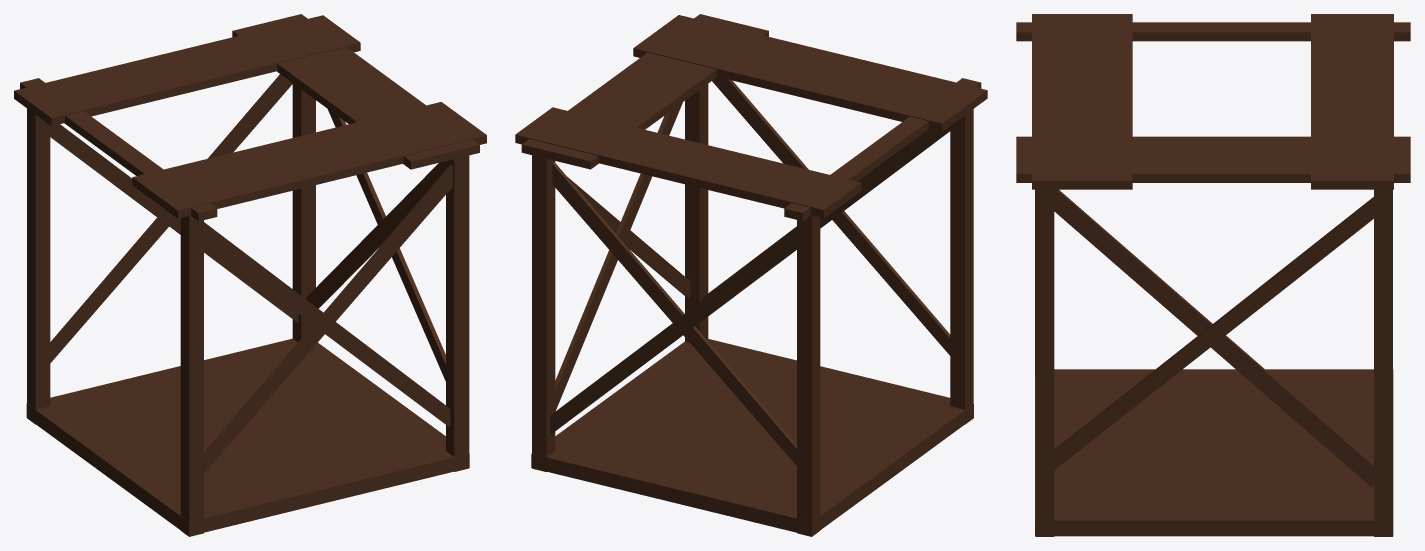
The model's file is Estructura Lisa.fbx.
The picture shows the model from 3 angles, left to right: view 1: azimuth 30°, elevation 25°; view 2: azimuth 150°, elevation 25°; view 3: azimuth 270°, elevation 25°; orthographic projection. The views are drawn at different scales.
Parts seen in each view (by area): view 1: pCube20; view 2: pCube20; view 3: pCube20.
Part boxes in pixels (x1,y1,x2,y2): pCube20: [14, 14, 486, 536]; pCube20: [515, 14, 987, 536]; pCube20: [1016, 14, 1410, 536].
Size of the model in its own units: 15.44 by 15.78 by 15.44.
